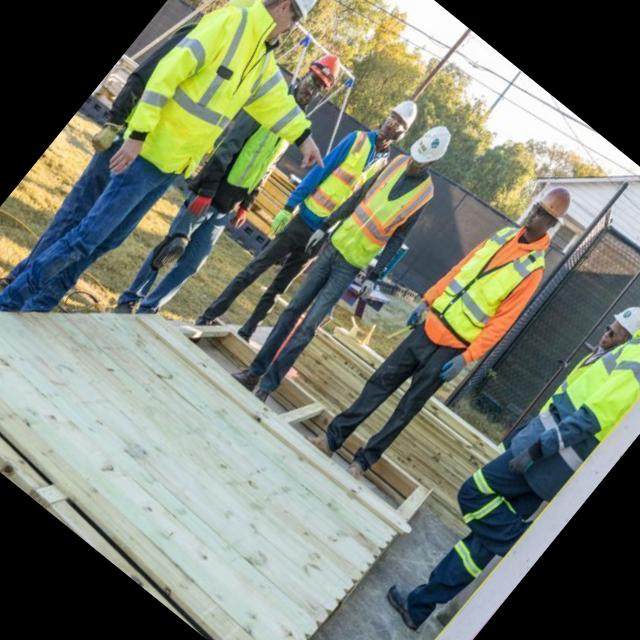hard_hat: (522, 176, 585, 236), (404, 117, 460, 174), (383, 90, 427, 134), (306, 47, 349, 91), (263, 0, 335, 26), (610, 299, 640, 338)
safety_vest: (107, 0, 354, 230), (491, 297, 640, 506), (426, 217, 553, 353), (322, 149, 444, 280), (295, 125, 395, 232), (218, 120, 294, 202)
vehicle: (276, 140, 616, 518), (0, 0, 355, 360), (356, 215, 640, 640), (197, 95, 489, 426), (87, 28, 376, 359), (173, 62, 444, 371), (511, 283, 640, 455)
work_boots: (376, 580, 434, 635), (225, 359, 262, 395), (302, 424, 340, 459), (343, 456, 369, 482)
